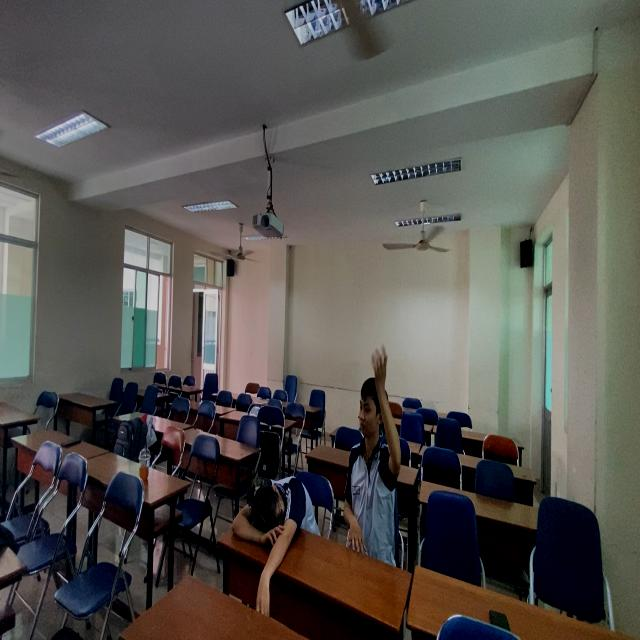raise_hand: (342, 343, 410, 549)
sleep: (228, 464, 316, 549)
